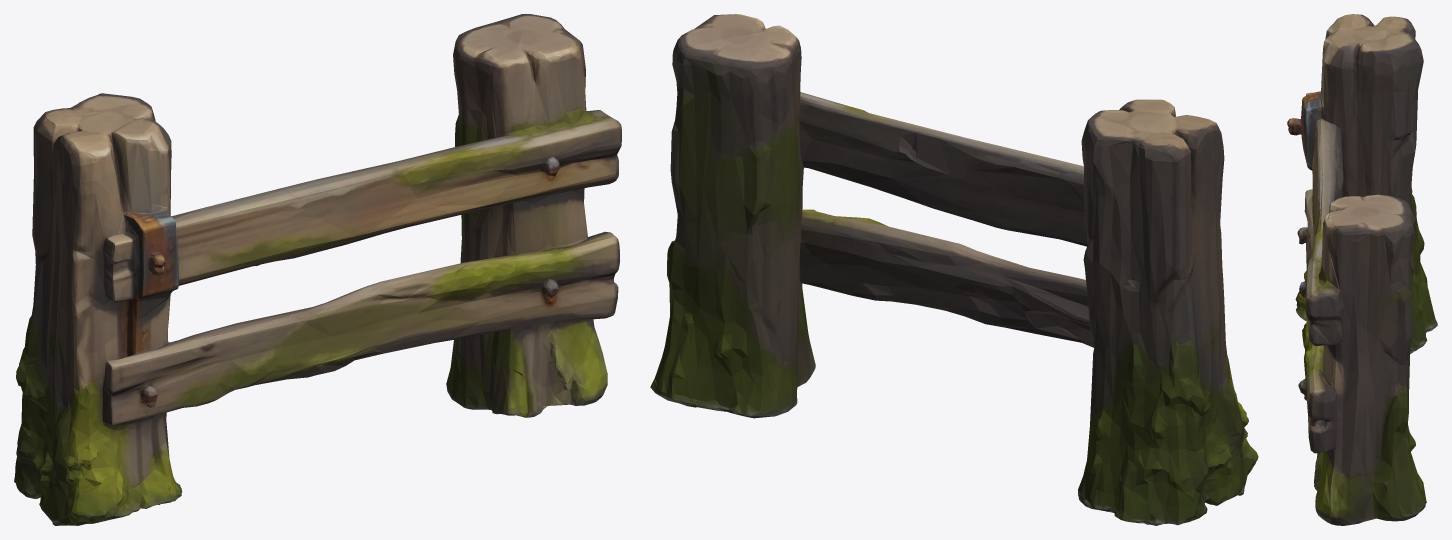
Rendered from fence.glb.
The picture shows the model from 3 angles, left to right: view 1: azimuth 30°, elevation 25°; view 2: azimuth 150°, elevation 25°; view 3: azimuth 270°, elevation 25°; orthographic projection. The views are drawn at different scales.
Parts seen in each view (by area): view 1: world; view 2: world; view 3: world.
Part boxes in pixels (box(x1,y1,x2,y2)): world: box(14, 14, 621, 525); world: box(650, 14, 1258, 525); world: box(1287, 14, 1437, 525).
Bounding box in the file's own units: 0.9973 × 0.6459 × 0.2891.
1 material, 1 textured.
